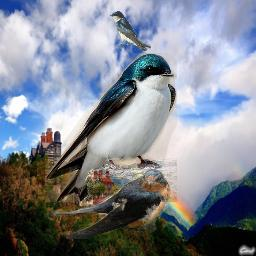Swallow: (45, 53, 177, 202), (44, 168, 171, 239), (110, 11, 151, 51)
